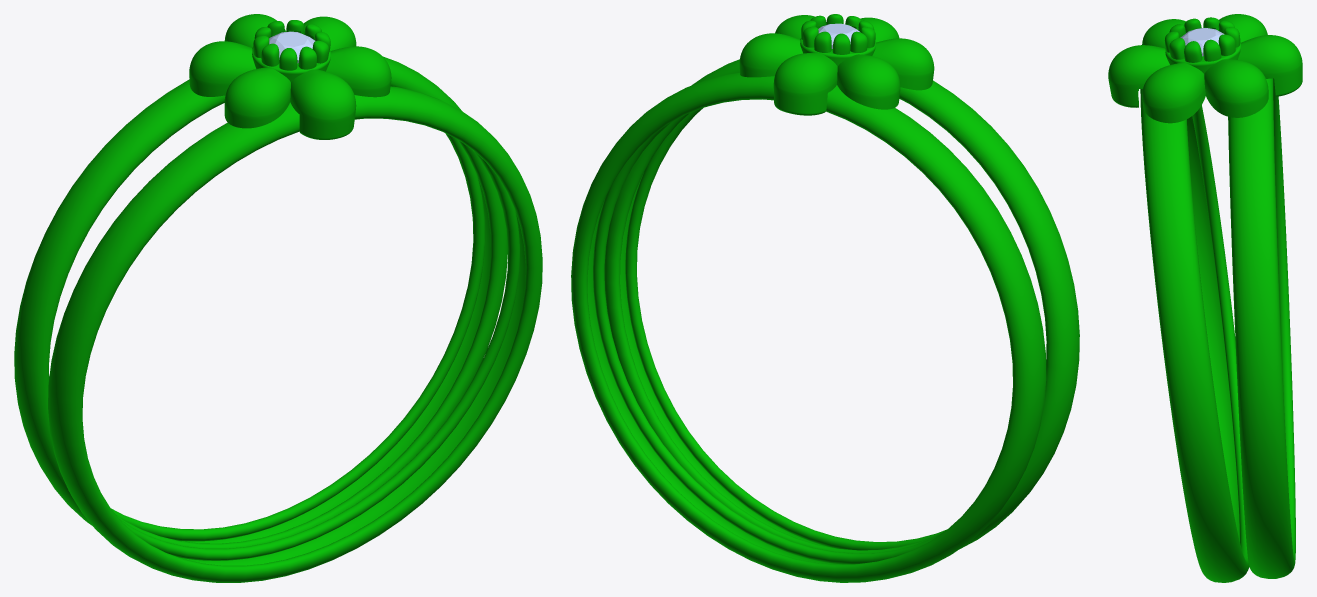
The picture shows the model from 3 angles, left to right: view 1: azimuth 30°, elevation 25°; view 2: azimuth 150°, elevation 25°; view 3: azimuth 270°, elevation 25°; orthographic projection. The views are drawn at different scales.
Parts seen in each view (by area): view 1: b.3dm; view 2: b.3dm; view 3: b.3dm.
Part boxes in pixels (<box>): b.3dm: <box>14,14,542,582</box>; b.3dm: <box>571,14,1079,582</box>; b.3dm: <box>1108,14,1302,582</box>.
Size of the model in its own units: 2.63 by 2.86 by 0.9506.
